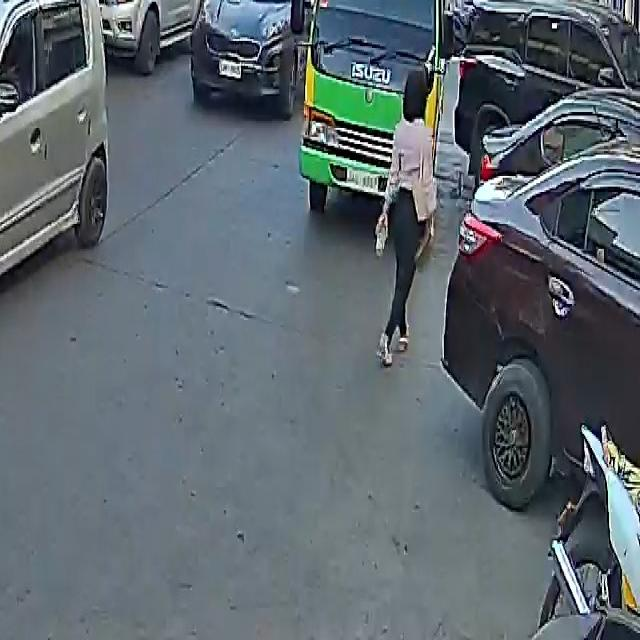car: (444, 69, 640, 529), (0, 0, 115, 347), (448, 0, 640, 183), (192, 0, 316, 108), (70, 0, 215, 71)
